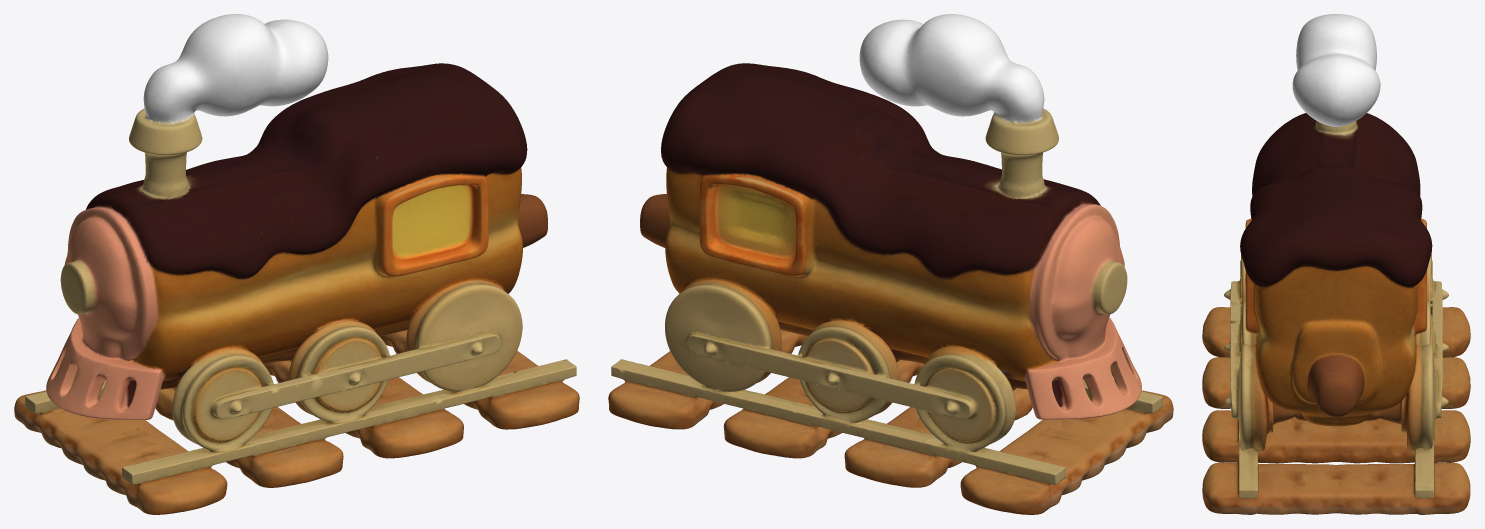
File: chocolate-train.glb
The picture shows the model from 3 angles, left to right: view 1: azimuth 30°, elevation 25°; view 2: azimuth 150°, elevation 25°; view 3: azimuth 270°, elevation 25°; orthographic projection. The views are drawn at different scales.
Bounding box in the file's own units: 1.85 × 1.49 × 0.9727.
1 material, 1 textured.
